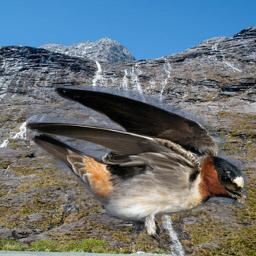Swallow: (26, 86, 247, 252)
